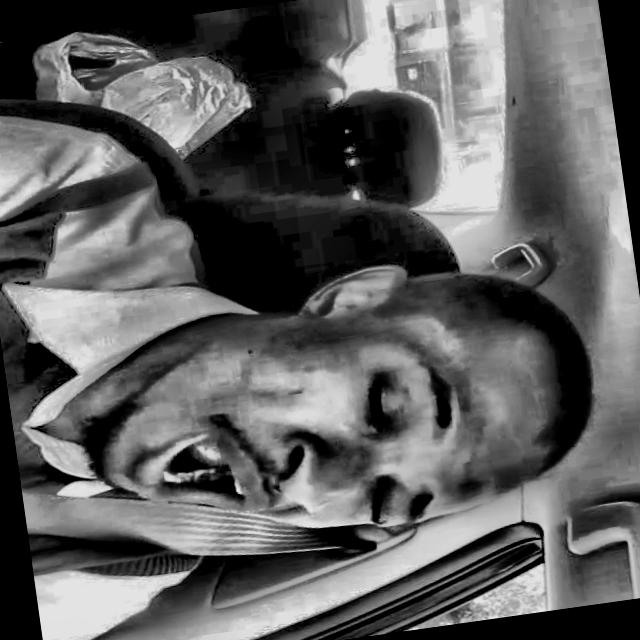closed_eyes: (350, 357, 408, 444), (347, 470, 410, 536)
open_mouth: (111, 409, 277, 531)
